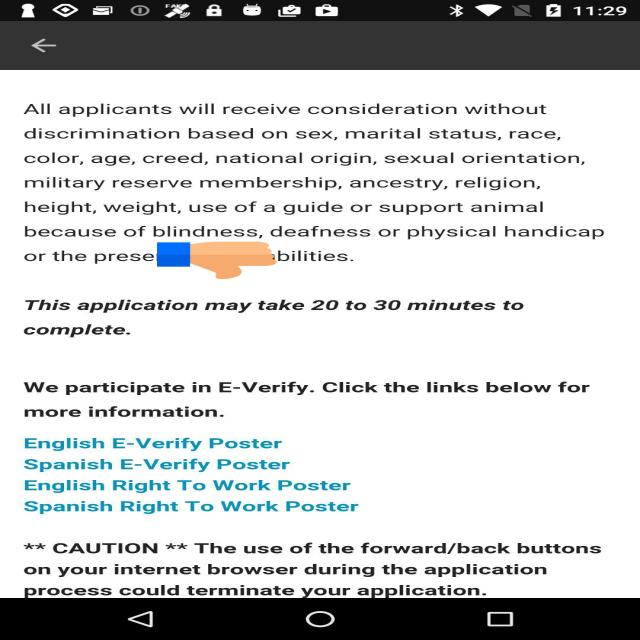obstruction: (157, 241, 277, 280)
